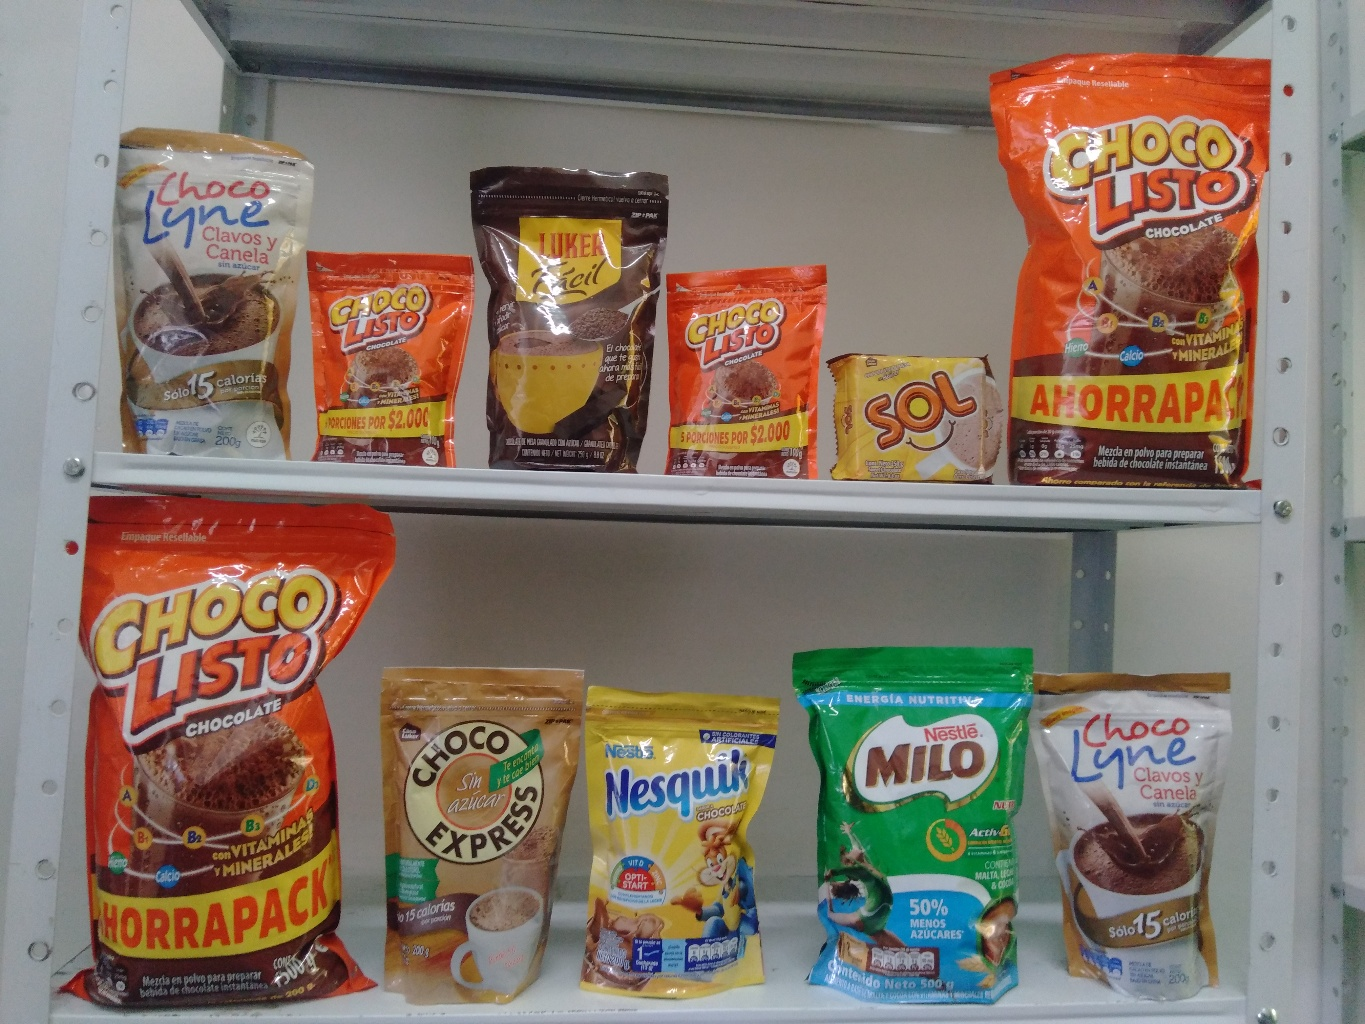COL0170303DYP20000: (574, 682, 795, 1016)
